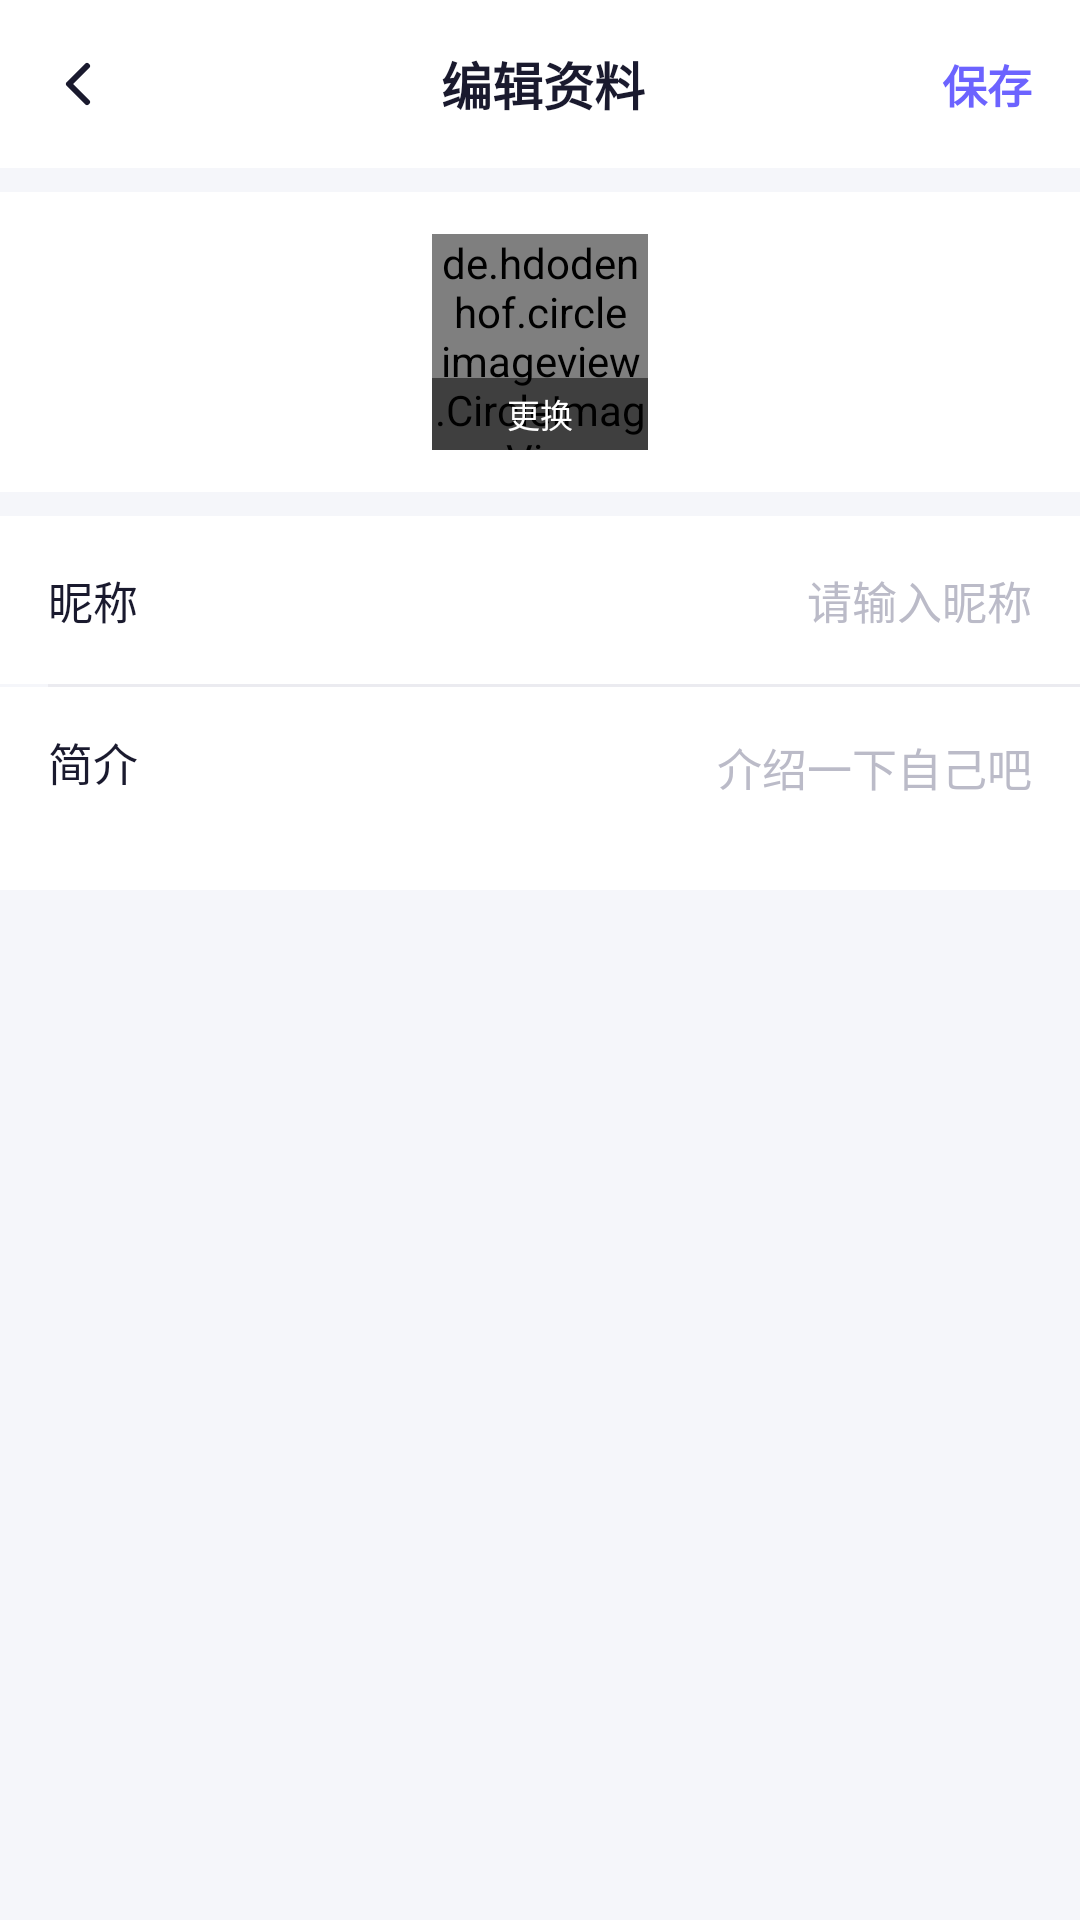

Named icons in this screenshot (1080w x 1920h) and their centers, (x,y):
back: (78,84)
